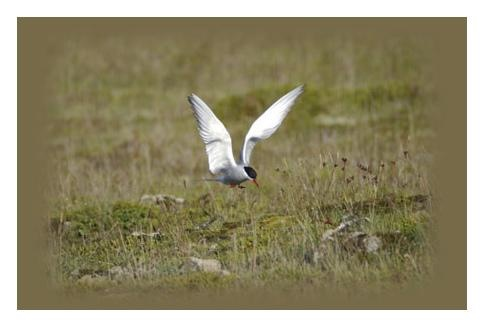bird: (178, 81, 302, 192)
